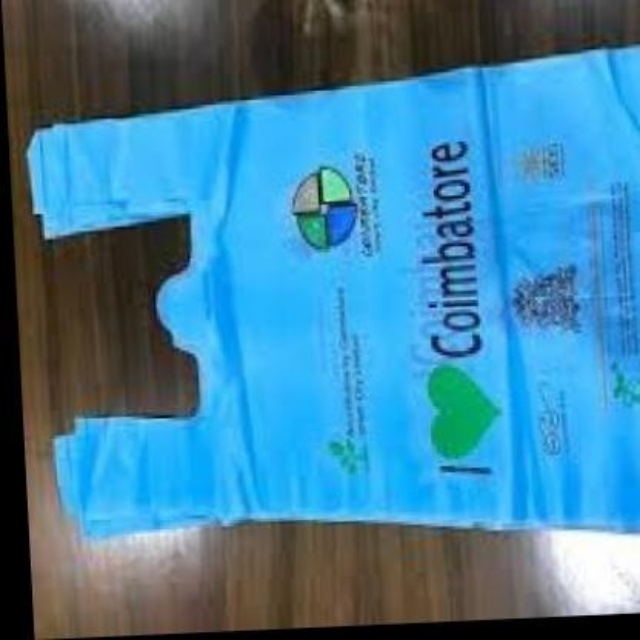trash: (28, 46, 638, 535)
